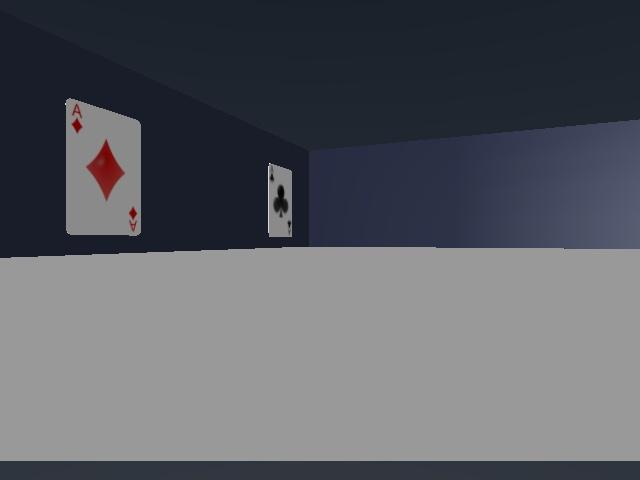club: (268, 164, 292, 236)
diamond: (66, 99, 140, 235)
